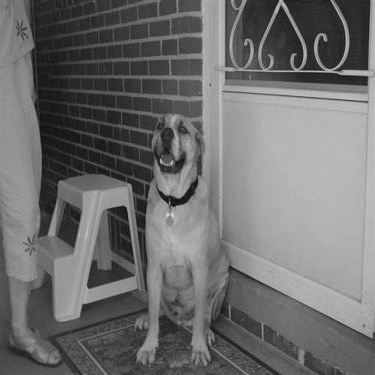dog: (117, 100, 238, 372)
